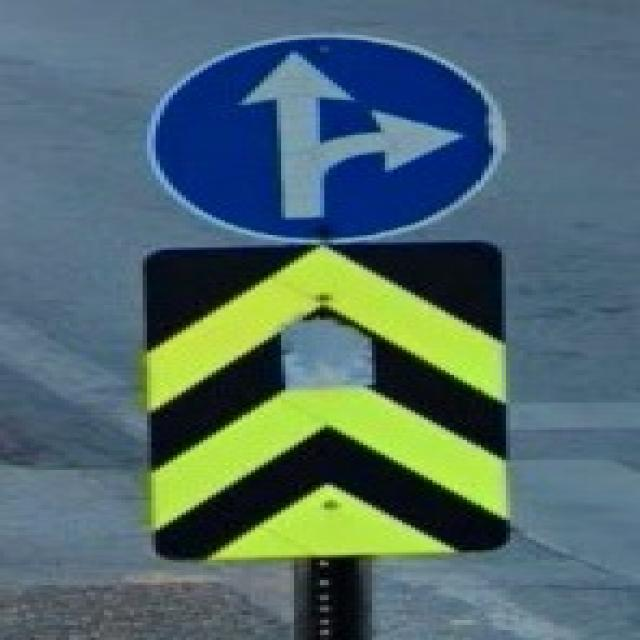Straight or Right: (155, 41, 483, 236)
